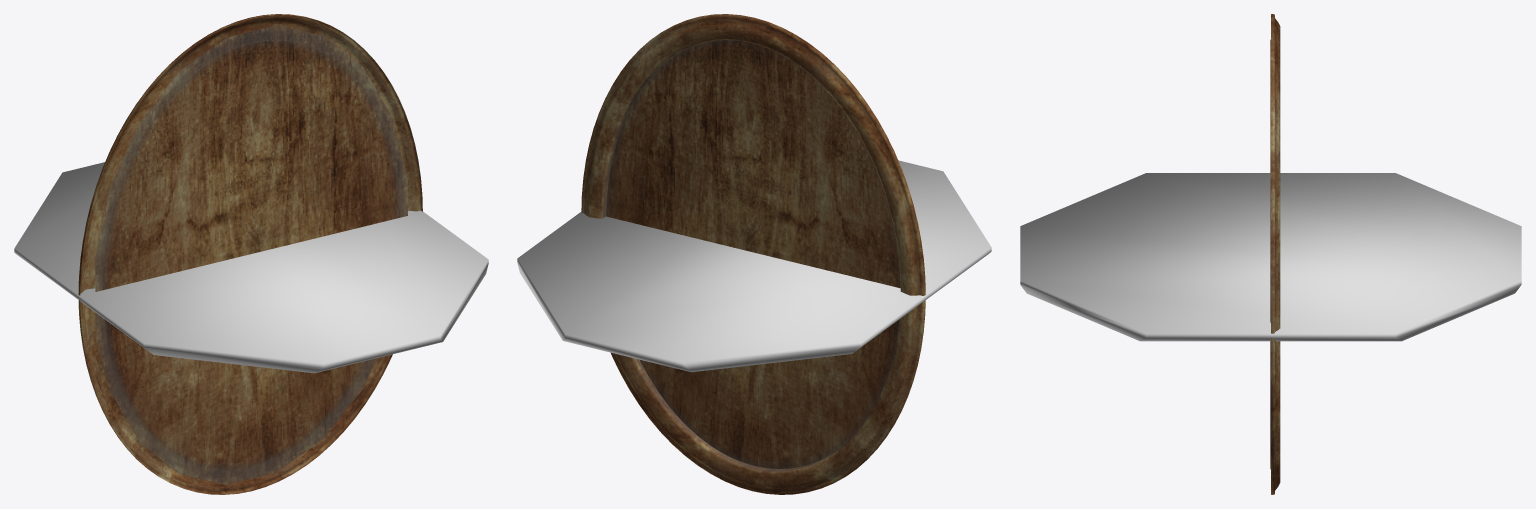
File: SM_Bar_Baked_SM_A.fbx
The picture shows the model from 3 angles, left to right: view 1: azimuth 30°, elevation 25°; view 2: azimuth 150°, elevation 25°; view 3: azimuth 270°, elevation 25°; orthographic projection. The views are drawn at different scales.
Parts seen in each view (by area): view 1: SM_Bar_Baked_SM_A, SM_Bar_Baked_SM_A_ConvexHulls; view 2: SM_Bar_Baked_SM_A, SM_Bar_Baked_SM_A_ConvexHulls; view 3: SM_Bar_Baked_SM_A_ConvexHulls, SM_Bar_Baked_SM_A.
Boxes of the visible parts, x1=… form: SM_Bar_Baked_SM_A: x1=78, y1=14, x2=422, y2=494; SM_Bar_Baked_SM_A_ConvexHulls: x1=14, y1=162, x2=488, y2=373; SM_Bar_Baked_SM_A: x1=581, y1=14, x2=925, y2=494; SM_Bar_Baked_SM_A_ConvexHulls: x1=517, y1=160, x2=991, y2=372; SM_Bar_Baked_SM_A_ConvexHulls: x1=1020, y1=173, x2=1521, y2=341; SM_Bar_Baked_SM_A: x1=1270, y1=14, x2=1280, y2=494.
Size of the model in its own units: 0.6955 by 0.9126 by 0.9148.
